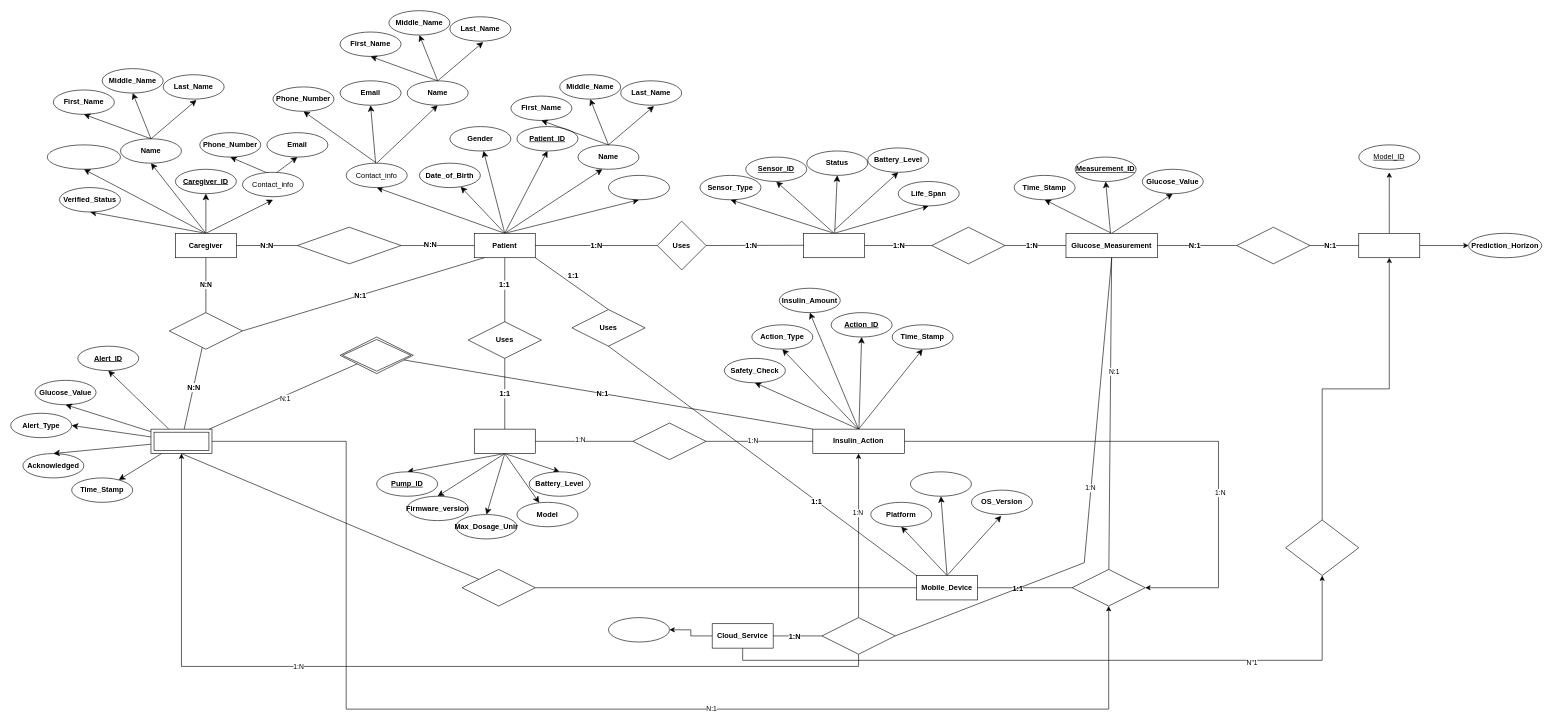
The diagram is 1552 pixels wide and 725 high, and some of its shapes have lost their labels. Here are the shapes that lost their labels. From the top down, the box of each, then its label:
(47, 144, 120, 169): Relation-to-patient
(608, 175, 669, 200): Diabetes_Type
(297, 227, 401, 264): Has / Assisted_By
(803, 233, 865, 258): Sensor
(931, 227, 1005, 264): Produces
(1236, 227, 1310, 264): Feeds
(1358, 233, 1420, 258): Prediction_Model
(169, 312, 242, 349): Notifies
(339, 336, 413, 374): Generates
(150, 429, 212, 454): Alert
(474, 429, 535, 454): Insulin_Pump
(632, 422, 706, 460): Executed_By
(910, 471, 971, 496): Device_ID
(1285, 519, 1359, 576): Trains
(461, 569, 535, 606): Receives
(1071, 569, 1145, 606): Displays
(608, 617, 669, 642): Cloud_ID
(821, 617, 895, 654): Stores
